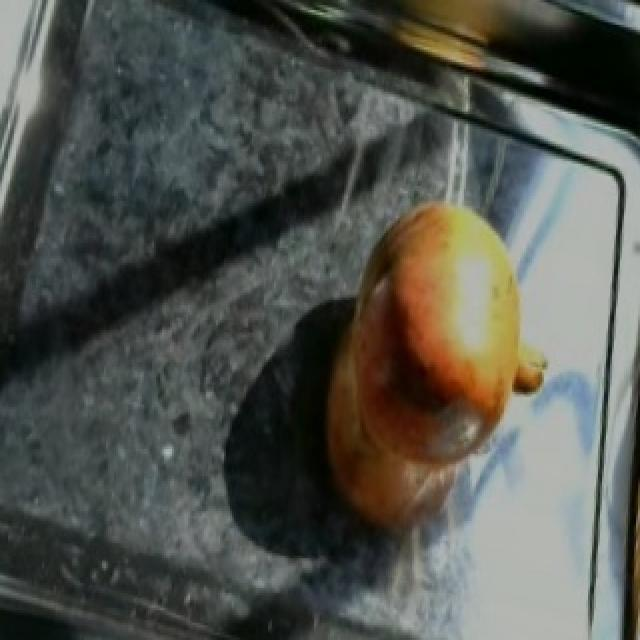fruit: (322, 174, 568, 471)
